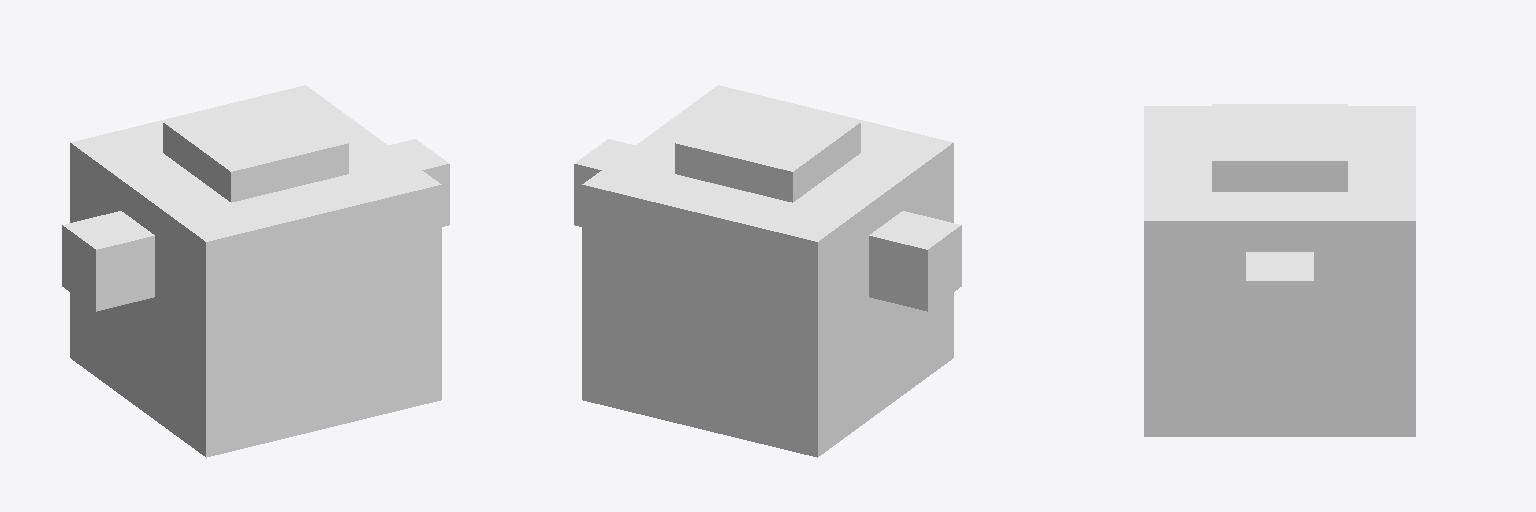
Rendered from torso1.obj.
3 views of the same model, side by side, from view 1: azimuth 30°, elevation 25°; view 2: azimuth 150°, elevation 25°; view 3: azimuth 270°, elevation 25° (orthographic).
Parts seen in each view (by area): view 1: object 1; view 2: object 1; view 3: object 1.
Part boxes in pixels (x1,y1,x2,y2): object 1: (62, 85, 449, 457); object 1: (574, 85, 961, 457); object 1: (1144, 104, 1415, 436).
Bounding box in the file's own units: 1.2 × 0.8 × 0.8.